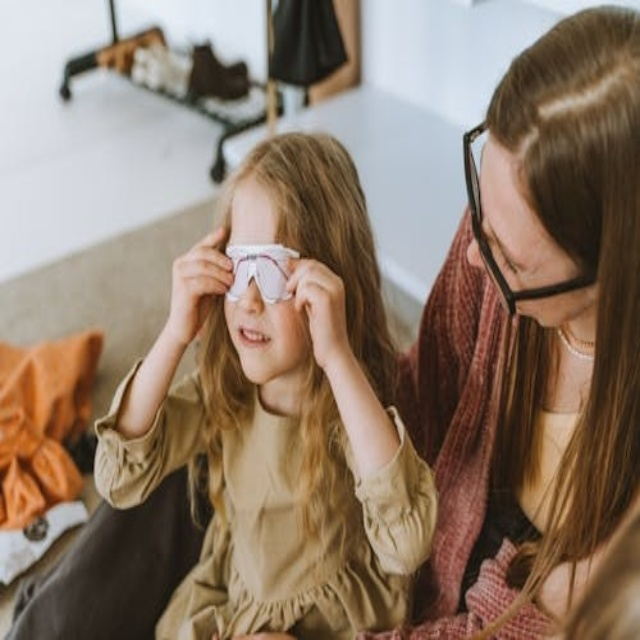Gafas: (460, 102, 600, 306)
Sin_guantes: (165, 221, 234, 338), (285, 252, 352, 354)
Sin_mascara: (230, 315, 283, 375)
